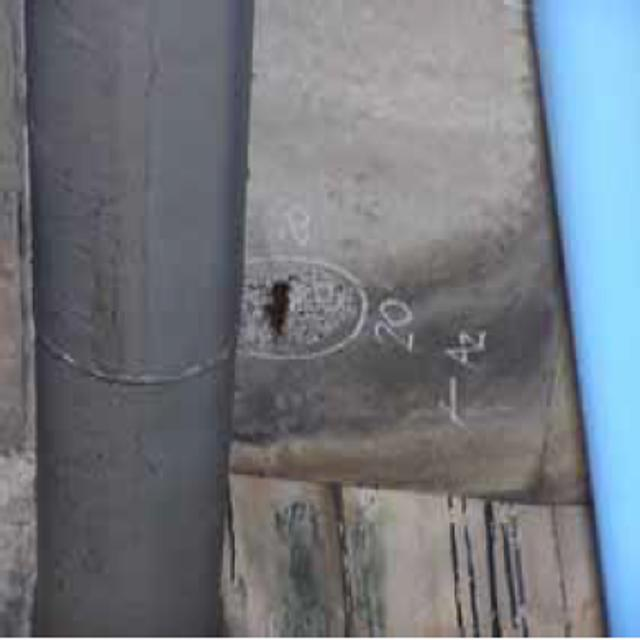spalling: (238, 251, 373, 360)
